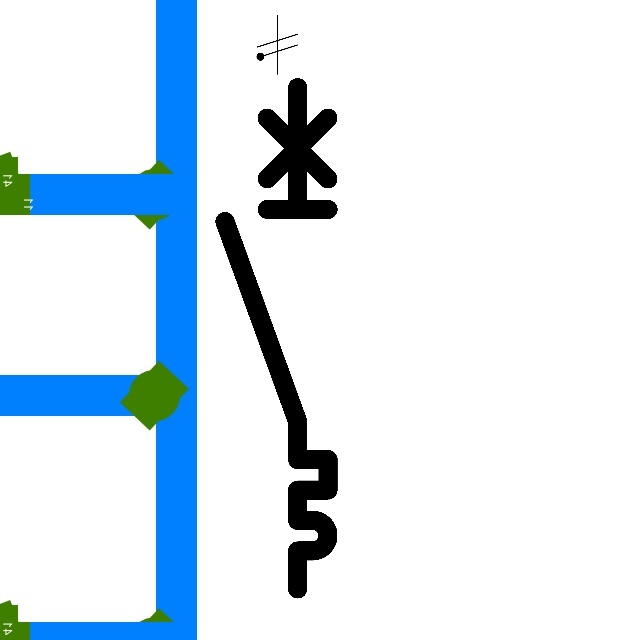interruptor_termomagnetico: (212, 74, 341, 601)
